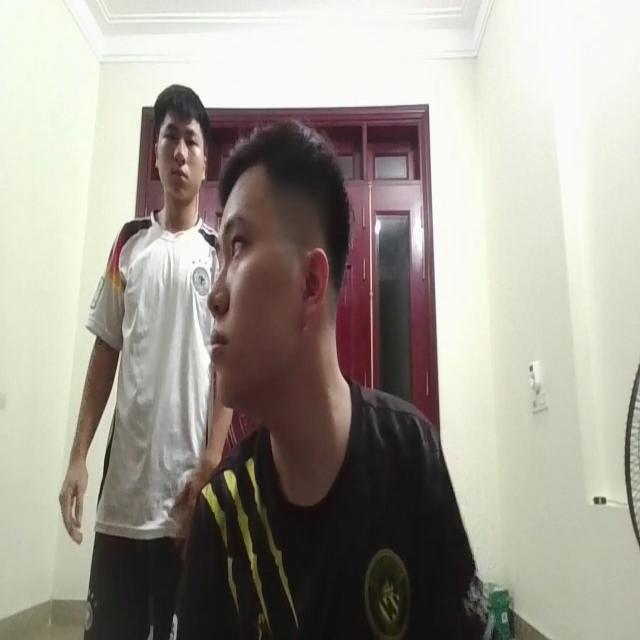extra_person: (70, 69, 222, 594)
student: (196, 122, 491, 640)
